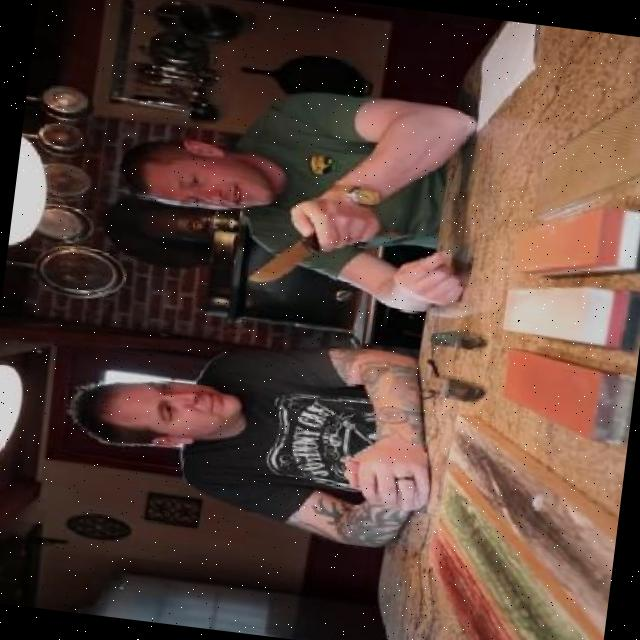Knife: (236, 197, 345, 298), (420, 368, 489, 406), (428, 326, 494, 352)
